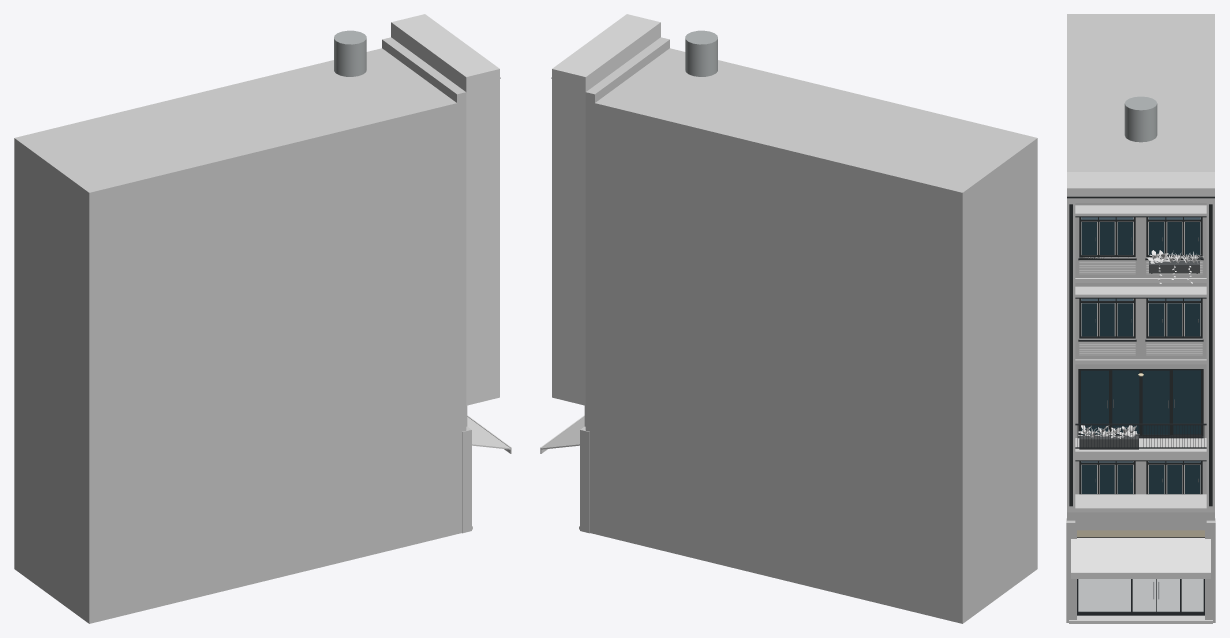
The model's file is OW_Mau_NhaPho_5_5_1_B.fbx.
3 views of the same model, side by side, from view 1: azimuth 30°, elevation 25°; view 2: azimuth 150°, elevation 25°; view 3: azimuth 270°, elevation 25° (orthographic).
Parts seen in each view (by area): view 1: OW_NhaPho_9019; view 2: OW_NhaPho_9019; view 3: OW_NhaPho_9019, OW_MatTienKinh.
Part boxes in pixels (box(x1,y1,x2,y2)): OW_NhaPho_9019: box(14, 14, 511, 623); OW_NhaPho_9019: box(540, 14, 1037, 623); OW_NhaPho_9019: box(1066, 14, 1215, 623); OW_MatTienKinh: box(1077, 530, 1204, 615).
Bounding box in the file's own units: 17.77 × 19.45 × 5.5.
